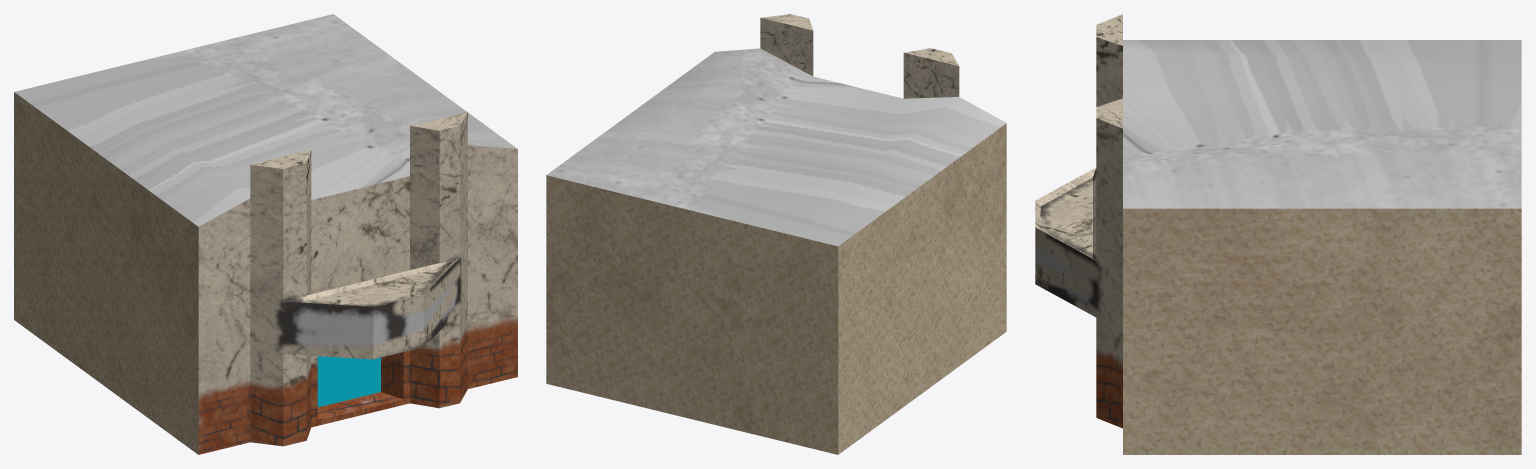
File: SmallTheater.fbx
The picture shows the model from 3 angles, left to right: view 1: azimuth 30°, elevation 25°; view 2: azimuth 150°, elevation 25°; view 3: azimuth 270°, elevation 25°; orthographic projection. The views are drawn at different scales.
Visible parts, largest first — view 1: pCube25; view 2: pCube25; view 3: pCube25.
Part boxes in pixels (<box>): pCube25: <box>14,14,517,454</box>; pCube25: <box>546,14,1006,454</box>; pCube25: <box>1035,14,1521,454</box>.
Size of the model in its own units: 10.49 by 8.72 by 12.81.
